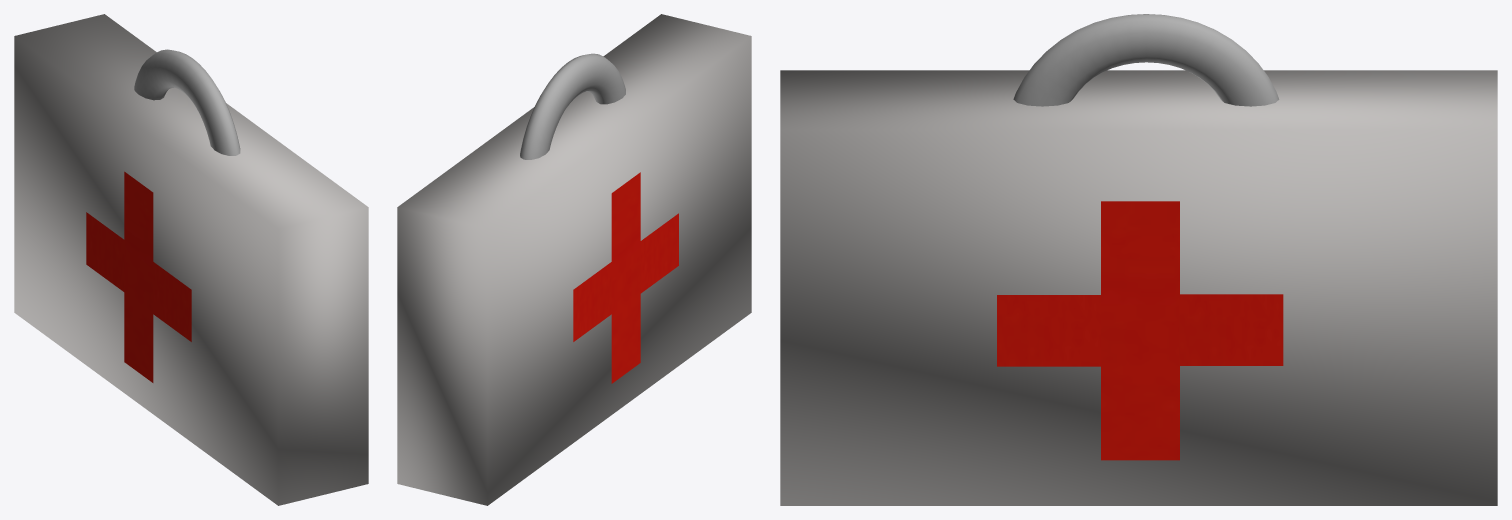
The model's file is Malette.fbx.
3 renders of one model, left to right at view 1: azimuth 30°, elevation 25°; view 2: azimuth 150°, elevation 25°; view 3: azimuth 270°, elevation 25°, orthographic. The views are drawn at different scales.
Visible parts, largest first — view 1: Plane.001; view 2: Plane.001; view 3: Plane.001.
Part boxes in pixels (x1=…): Plane.001: x1=14, y1=14, x2=368, y2=505; Plane.001: x1=397, y1=14, x2=751, y2=505; Plane.001: x1=780, y1=14, x2=1497, y2=505.
Bounding box in the file's own units: 74.39 × 226 × 319.
